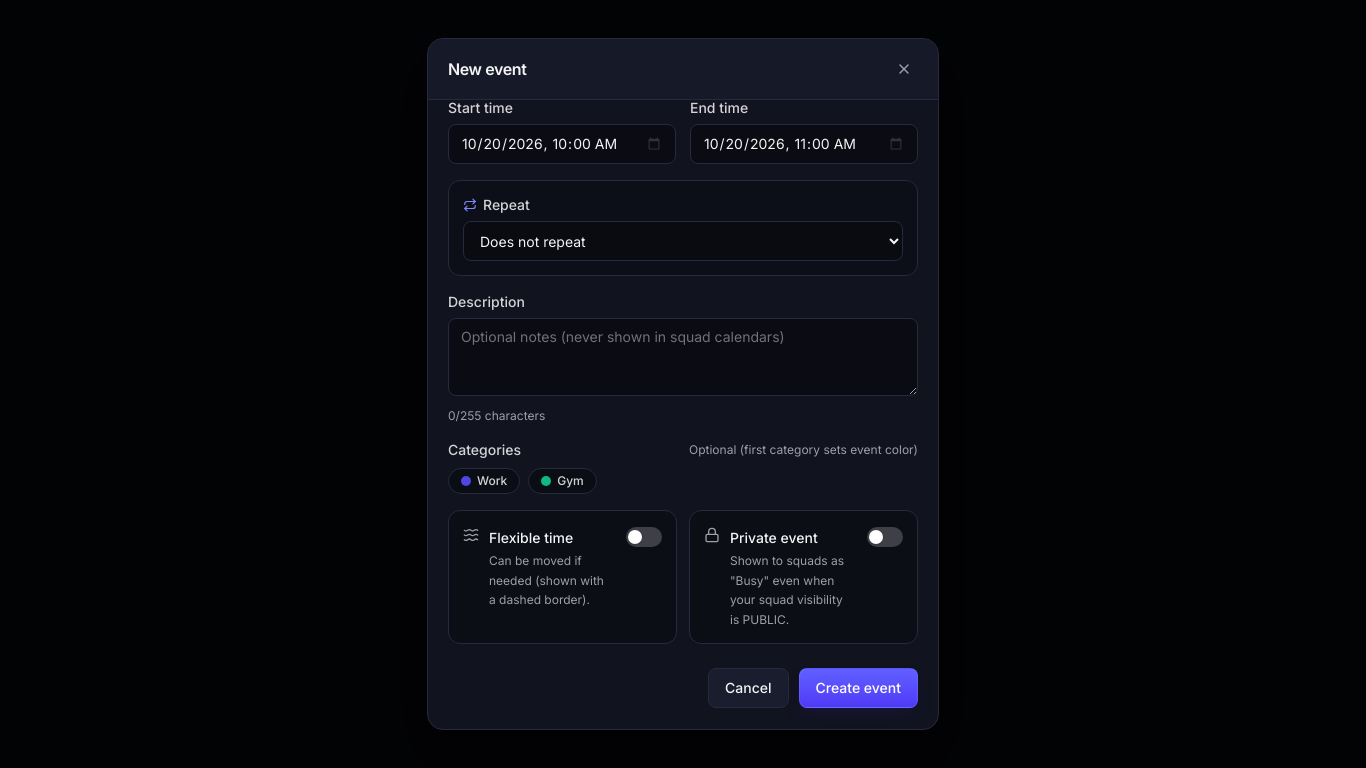
Scenario: EventFormModal component › validates that Title is required before submitting
(page scrolled)
Click the button "Create event".
click(858, 688)  # box [798,668,918,708]
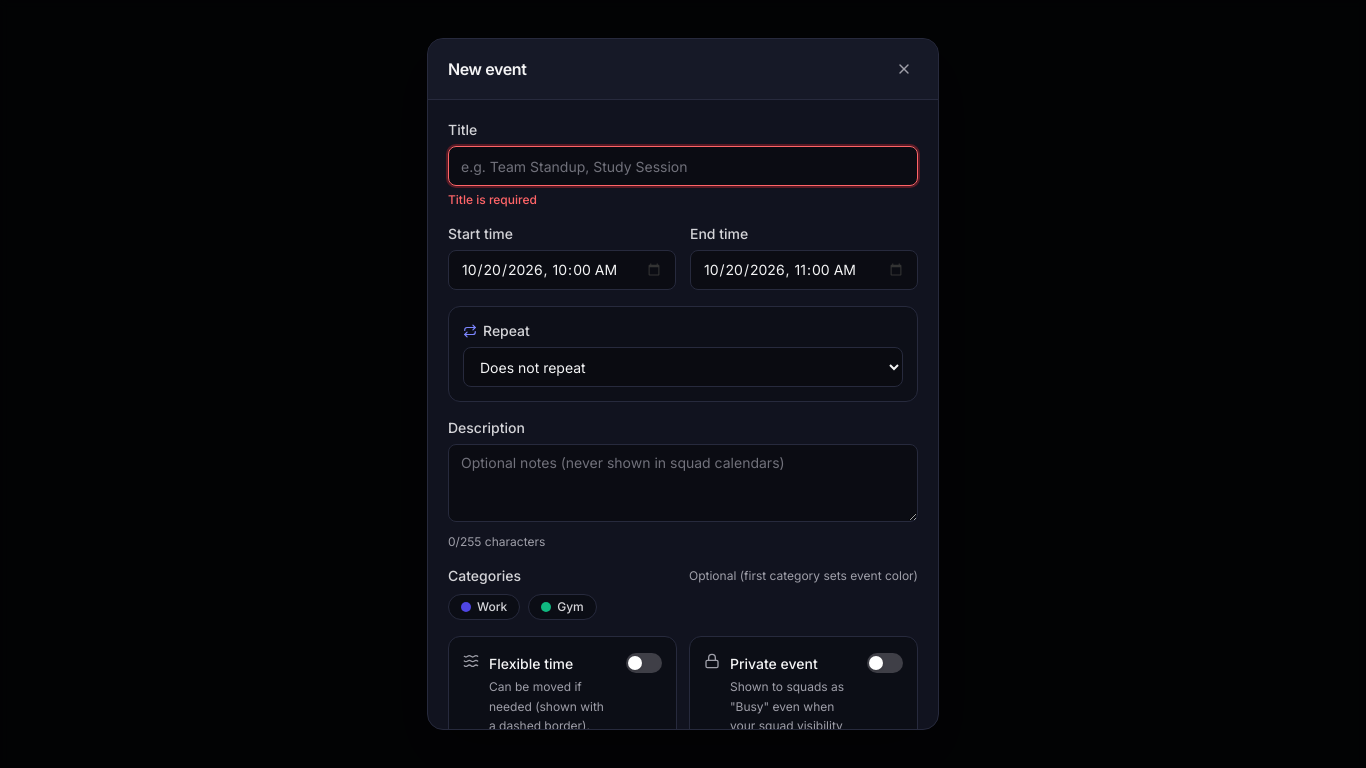
Check: the text "Title is required" is shown, box [448,192,537,207]
